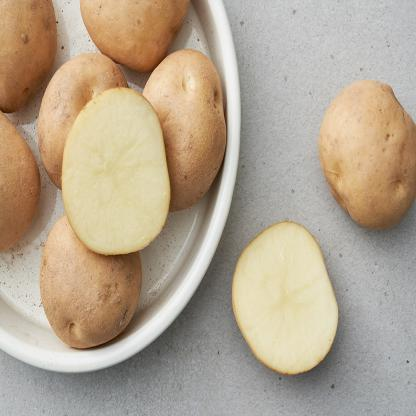potato: (123, 37, 267, 222), (25, 198, 160, 379), (60, 86, 162, 274), (240, 202, 340, 389), (32, 50, 162, 184), (318, 62, 416, 227)
